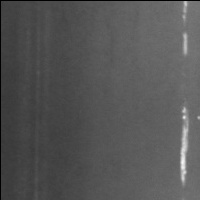scratches: (176, 102, 193, 187), (178, 1, 192, 57)
